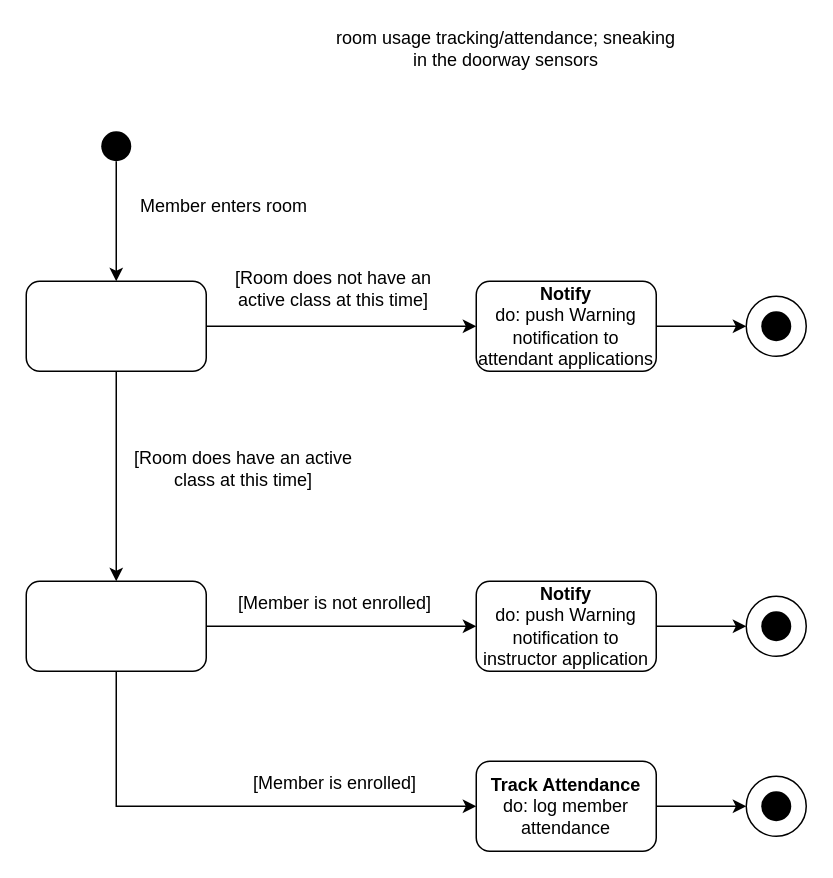
The diagram is 833 pixels wide and 878 high, and some of its shapes have lost their labels. The shapes that lost their labels are listed below. From the top down, each one's box as (x1, y1, x2, y2) in pixels, then its label:
(25, 280, 206, 371): Query do: query class times for that room
(25, 580, 206, 671): Query do: query members enrolled in that class
